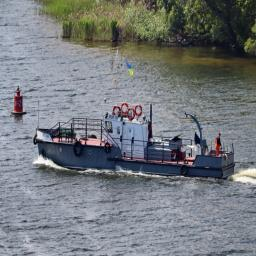tugboat: (31, 93, 239, 187)
